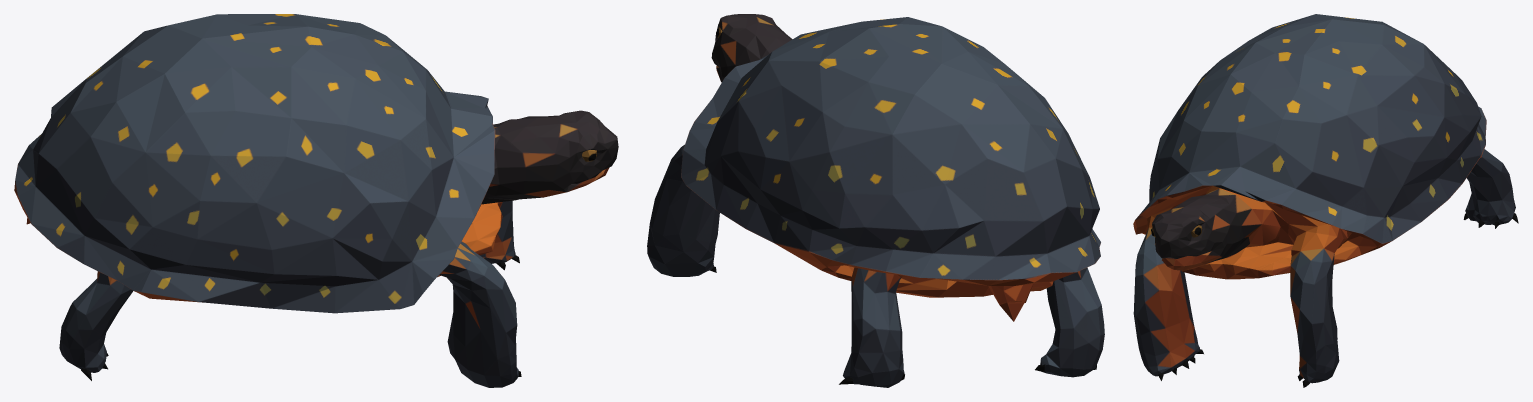
Rendered from Tortoise.glb.
The picture shows the model from 3 angles, left to right: view 1: azimuth 30°, elevation 25°; view 2: azimuth 150°, elevation 25°; view 3: azimuth 270°, elevation 25°; orthographic projection. The views are drawn at different scales.
Parts seen in each view (by area): view 1: node_id316; view 2: node_id316; view 3: node_id316.
Boxes of the visible parts, x1,y1,x2,y2 form: node_id316: [14, 14, 618, 387]; node_id316: [647, 14, 1104, 387]; node_id316: [1133, 14, 1518, 387].
Size of the model in its own units: 0.7832 by 0.51 by 0.6493.
1 material, 1 textured.
